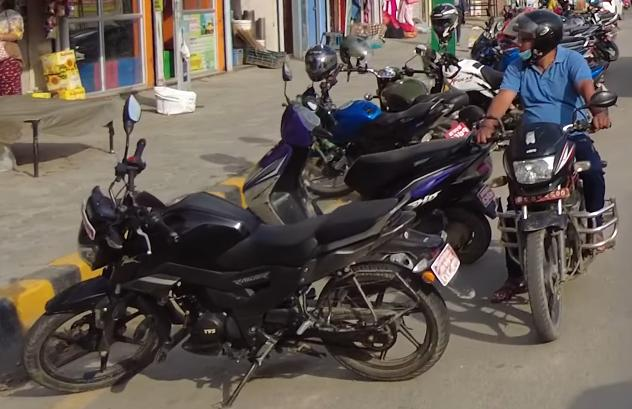bike: (22, 91, 466, 409), (465, 96, 626, 344)
